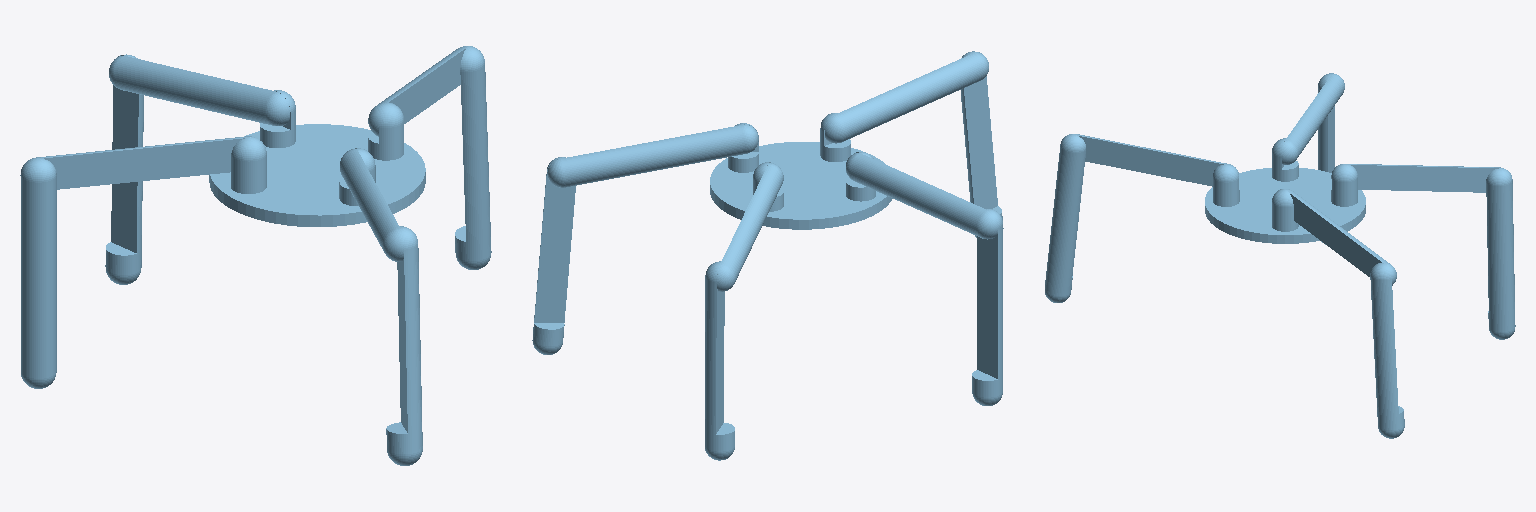
The robot description file, URDF, robot "assembly_1":
<!--URDF generated by ONSHAPE BY PTC INC, 1.221-->
<robot name="assembly_1">
    <link name="part_1">
        <inertial>
            <mass value="3.1603e-07" />
            <origin xyz="0.00222225 -0.00106594 -0.0148348" rpy="0 -0.145248 0" />
            <inertia ixx="2.74232e-11" ixy="0" ixz="3.91866e-12" iyy="2.83556e-11" iyz="0" izz="1.20677e-12" />
        </inertial>
        <visual>
            <origin xyz="0.00191793 0 -0.0300387" rpy="0 -0.145248 0" />
            <geometry>
                <mesh filename="package://assembly_1/meshes/Part_1.stl" scale="1 1 1" />
            </geometry>
            <material name="0.615686_0.811765_0.929412_0.000000_0.000000">
                <color rgba="0.615686 0.811765 0.929412 1" />
            </material>
        </visual>
    </link>
    <link name="part_1_1">
        <inertial>
            <mass value="3.1603e-07" />
            <origin xyz="5.06914e-05 -0.00106594 0.0149998" rpy="0 -0 0" />
            <inertia ixx="2.79964e-11" ixy="0" ixz="0" iyy="2.83556e-11" iyz="0" izz="6.33566e-13" />
        </inertial>
        <visual>
            <origin xyz="-0.002451 0 -7.65404e-20" rpy="0 -0 0" />
            <geometry>
                <mesh filename="package://assembly_1/meshes/Part_1.stl" scale="1 1 1" />
            </geometry>
            <material name="0.615686_0.811765_0.929412_0.000000_0.000000">
                <color rgba="0.615686 0.811765 0.929412 1" />
            </material>
        </visual>
    </link>
    <link name="part_1_10">
        <inertial>
            <mass value="3.1603e-07" />
            <origin xyz="0.00212736 -0.00106594 -0.0148487" rpy="0 -0.138855 0" />
            <inertia ixx="2.74723e-11" ixy="0" ixz="3.75074e-12" iyy="2.83556e-11" iyz="0" izz="1.15773e-12" />
        </inertial>
        <visual>
            <origin xyz="0.00172585 0 -0.0300504" rpy="0 -0.138855 0" />
            <geometry>
                <mesh filename="package://assembly_1/meshes/Part_1.stl" scale="1 1 1" />
            </geometry>
            <material name="0.615686_0.811765_0.929412_0.000000_0.000000">
                <color rgba="0.615686 0.811765 0.929412 1" />
            </material>
        </visual>
    </link>
    <link name="part_1_11">
        <inertial>
            <mass value="1.13097e-06" />
            <origin xyz="-1.62331e-06 -2.81082e-09 0.0009" rpy="0 -0 0" />
            <inertia ixx="6.3101e-11" ixy="-2.0195e-14" ixz="0" iyy="6.31008e-11" iyz="0" izz="1.25591e-10" />
        </inertial>
        <visual>
            <origin xyz="0 0 0" rpy="0 -0 0" />
            <geometry>
                <mesh filename="package://assembly_1/meshes/Part_1_3.stl" scale="1 1 1" />
            </geometry>
            <material name="0.615686_0.811765_0.929412_0.000000_0.000000">
                <color rgba="0.615686 0.811765 0.929412 1" />
            </material>
        </visual>
    </link>
    <link name="part_1_12">
        <inertial>
            <mass value="8.5037e-08" />
            <origin xyz="0.000281315 -0.000361883 0.00265634" rpy="-9.13055e-17 1.86626e-16 2.23158" />
            <inertia ixx="4.4069e-13" ixy="-8.52076e-15" ixz="-4.40003e-14" iyy="4.45028e-13" iyz="5.66019e-14" izz="2.49434e-13" />
        </inertial>
        <visual>
            <origin xyz="5.13857e-35 -1.5839e-36 -4.33681e-19" rpy="-9.13055e-17 1.86626e-16 2.23158" />
            <geometry>
                <mesh filename="package://assembly_1/meshes/Part_1_2.stl" scale="1 1 1" />
            </geometry>
            <material name="0.615686_0.811765_0.929412_0.000000_0.000000">
                <color rgba="0.615686 0.811765 0.929412 1" />
            </material>
        </visual>
    </link>
    <link name="part_1_2">
        <inertial>
            <mass value="3.66911e-07" />
            <origin xyz="0.0037008 -0.000800106 -0.016594" rpy="0 -0.216445 0" />
            <inertia ixx="3.57278e-11" ixy="-2.5849e-13" ixz="7.65496e-12" iyy="3.7645e-11" iyz="1.17523e-12" izz="2.57638e-12" />
        </inertial>
        <visual>
            <origin xyz="0.00404992 0 -0.0298262" rpy="0 -0.216445 0" />
            <geometry>
                <mesh filename="package://assembly_1/meshes/Part_1_1.stl" scale="1 1 1" />
            </geometry>
            <material name="0.615686_0.811765_0.929412_0.000000_0.000000">
                <color rgba="0.615686 0.811765 0.929412 1" />
            </material>
        </visual>
    </link>
    <link name="part_1_3">
        <inertial>
            <mass value="8.5037e-08" />
            <origin xyz="0.000434572 -0.000145754 0.00265634" rpy="-3.67748e-17 2.25294e-16 2.81799" />
            <inertia ixx="4.49873e-13" ixy="-5.30153e-15" ixz="-6.79712e-14" iyy="4.35845e-13" iyz="2.27973e-14" izz="2.49434e-13" />
        </inertial>
        <visual>
            <origin xyz="5.20565e-35 -6.37941e-37 -4.33681e-19" rpy="-3.67748e-17 2.25294e-16 2.81799" />
            <geometry>
                <mesh filename="package://assembly_1/meshes/Part_1_2.stl" scale="1 1 1" />
            </geometry>
            <material name="0.615686_0.811765_0.929412_0.000000_0.000000">
                <color rgba="0.615686 0.811765 0.929412 1" />
            </material>
        </visual>
    </link>
    <link name="part_1_4">
        <inertial>
            <mass value="8.5037e-08" />
            <origin xyz="-0.000131154 -0.000439199 0.00265634" rpy="-1.10813e-16 8.25572e-17 1.28061" />
            <inertia ixx="4.35506e-13" ixy="4.82126e-15" ixz="2.05137e-14" iyy="4.50212e-13" iyz="6.86949e-14" izz="2.49434e-13" />
        </inertial>
        <visual>
            <origin xyz="4.95804e-35 -1.9223e-36 -4.33681e-19" rpy="-1.10813e-16 8.25572e-17 1.28061" />
            <geometry>
                <mesh filename="package://assembly_1/meshes/Part_1_2.stl" scale="1 1 1" />
            </geometry>
            <material name="0.615686_0.811765_0.929412_0.000000_0.000000">
                <color rgba="0.615686 0.811765 0.929412 1" />
            </material>
        </visual>
    </link>
    <link name="part_1_5">
        <inertial>
            <mass value="3.1603e-07" />
            <origin xyz="5.06914e-05 -0.00106594 0.0149998" rpy="0 -0 0" />
            <inertia ixx="2.79964e-11" ixy="0" ixz="0" iyy="2.83556e-11" iyz="0" izz="6.33566e-13" />
        </inertial>
        <visual>
            <origin xyz="-0.002451 0 -7.65404e-20" rpy="0 -0 0" />
            <geometry>
                <mesh filename="package://assembly_1/meshes/Part_1.stl" scale="1 1 1" />
            </geometry>
            <material name="0.615686_0.811765_0.929412_0.000000_0.000000">
                <color rgba="0.615686 0.811765 0.929412 1" />
            </material>
        </visual>
    </link>
    <link name="part_1_6">
        <inertial>
            <mass value="3.66911e-07" />
            <origin xyz="-0.00282161 -0.000800106 0.0167659" rpy="3.14159 0.163748 3.14159" />
            <inertia ixx="3.64411e-11" ixy="1.96229e-13" ixz="5.86874e-12" iyy="3.7645e-11" iyz="-1.18722e-12" izz="1.86307e-12" />
        </inertial>
        <visual>
            <origin xyz="-0.00247329 0 0.0299981" rpy="3.14159 0.163748 3.14159" />
            <geometry>
                <mesh filename="package://assembly_1/meshes/Part_1_1.stl" scale="1 1 1" />
            </geometry>
            <material name="0.615686_0.811765_0.929412_0.000000_0.000000">
                <color rgba="0.615686 0.811765 0.929412 1" />
            </material>
        </visual>
    </link>
    <link name="part_1_7">
        <inertial>
            <mass value="3.66911e-07" />
            <origin xyz="5.07358e-05 -0.000800106 -0.0170016" rpy="0 -0 0" />
            <inertia ixx="3.741e-11" ixy="0" ixz="-4.59011e-15" iyy="3.7645e-11" iyz="1.20332e-12" izz="8.94148e-13" />
        </inertial>
        <visual>
            <origin xyz="-0.00245 0 -0.03" rpy="0 -0 0" />
            <geometry>
                <mesh filename="package://assembly_1/meshes/Part_1_1.stl" scale="1 1 1" />
            </geometry>
            <material name="0.615686_0.811765_0.929412_0.000000_0.000000">
                <color rgba="0.615686 0.811765 0.929412 1" />
            </material>
        </visual>
    </link>
    <link name="part_1_8">
        <inertial>
            <mass value="3.66911e-07" />
            <origin xyz="5.07358e-05 -0.000800106 -0.0170016" rpy="0 -0 0" />
            <inertia ixx="3.741e-11" ixy="0" ixz="-4.59011e-15" iyy="3.7645e-11" iyz="1.20332e-12" izz="8.94148e-13" />
        </inertial>
        <visual>
            <origin xyz="-0.00245 0 -0.03" rpy="0 -0 0" />
            <geometry>
                <mesh filename="package://assembly_1/meshes/Part_1_1.stl" scale="1 1 1" />
            </geometry>
            <material name="0.615686_0.811765_0.929412_0.000000_0.000000">
                <color rgba="0.615686 0.811765 0.929412 1" />
            </material>
        </visual>
    </link>
    <link name="part_1_9">
        <inertial>
            <mass value="8.5037e-08" />
            <origin xyz="0.000442889 0.000118098 0.00265634" rpy="2.97969e-17 2.27392e-16 -2.881" />
            <inertia ixx="4.50484e-13" ixy="4.37779e-15" ixz="-6.92719e-14" iyy="4.35234e-13" iyz="-1.84716e-14" izz="2.49434e-13" />
        </inertial>
        <visual>
            <origin xyz="5.20929e-35 5.16894e-37 -4.33681e-19" rpy="2.97969e-17 2.27392e-16 -2.881" />
            <geometry>
                <mesh filename="package://assembly_1/meshes/Part_1_2.stl" scale="1 1 1" />
            </geometry>
            <material name="0.615686_0.811765_0.929412_0.000000_0.000000">
                <color rgba="0.615686 0.811765 0.929412 1" />
            </material>
        </visual>
    </link>
    <link name="root" />
    <joint name="fixed_node_to_root_joint" type="fixed">
        <origin xyz="0.0361547 0.000731504 0.0164732" rpy="0 -0 0" />
        <axis xyz="0 0 1" />
        <parent link="root" />
        <child link="part_1_11" />
    </joint>
    <joint name="revolute_1" type="continuous">
        <origin xyz="-0.011 -8.67362e-19 0.0018" rpy="-2.1442e-32 1.15648e-16 5.55112e-17" />
        <axis xyz="1.15648e-16 0 -1" />
        <parent link="part_1_11" />
        <child link="part_1_4" />
    </joint>
    <joint name="revolute_10" type="continuous">
        <origin xyz="-6.93889e-18 3.46945e-18 0.005" rpy="6.65869e-15 1.51241 -1.8944" />
        <axis xyz="-0 1 -0" />
        <parent link="part_1_3" />
        <child link="part_1_1" />
    </joint>
    <joint name="revolute_11" type="continuous">
        <origin xyz="-1.0001e-06 0 0.03" rpy="3.14159 1.52583 -1.85547e-14" />
        <axis xyz="-0 1 -0" />
        <parent link="part_1_1" />
        <child link="part_1_8" />
    </joint>
    <joint name="revolute_12" type="continuous">
        <origin xyz="0 6.50521e-19 0.005" rpy="0 1.5708 -3.43178" />
        <axis xyz="-0 1 -0" />
        <parent link="part_1_4" />
        <child link="part_1_5" />
    </joint>
    <joint name="revolute_2" type="continuous">
        <origin xyz="0 0.011 0.0018" rpy="2.99643e-31 1.15648e-16 6.52256e-16" />
        <axis xyz="1.15648e-16 0 -1" />
        <parent link="part_1_11" />
        <child link="part_1_9" />
    </joint>
    <joint name="revolute_3" type="continuous">
        <origin xyz="0.011 3.28513e-17 0.0018" rpy="-4.52076e-22 1.15648e-16 1.249e-15" />
        <axis xyz="1.15648e-16 0 -1" />
        <parent link="part_1_11" />
        <child link="part_1_12" />
    </joint>
    <joint name="revolute_4" type="continuous">
        <origin xyz="5.1946e-05 -0.0109999 0.0018" rpy="-5.47204e-18 8.48344e-17 1.66533e-16" />
        <axis xyz="1.15648e-16 0 -1" />
        <parent link="part_1_11" />
        <child link="part_1_3" />
    </joint>
    <joint name="revolute_5" type="continuous">
        <origin xyz="0.00415326 0 -0.0297111" rpy="3.14159 1.43194 -6.77407e-15" />
        <axis xyz="0 1 0" />
        <parent link="part_1_10" />
        <child link="part_1_2" />
    </joint>
    <joint name="revolute_6" type="continuous">
        <origin xyz="-1.0001e-06 1.73472e-18 0.03" rpy="0 1.5708 -3.14159" />
        <axis xyz="0 1 0" />
        <parent link="part_1_5" />
        <child link="part_1_7" />
    </joint>
    <joint name="revolute_7" type="continuous">
        <origin xyz="6.93889e-18 -1.73472e-18 0.005" rpy="0 1.5708 -1.31021" />
        <axis xyz="0 1 0" />
        <parent link="part_1_9" />
        <child link="part_1" />
    </joint>
    <joint name="revolute_8" type="continuous">
        <origin xyz="0.00434312 0 -0.029684" rpy="-1.16862e-14 -1.42555 -3.14159" />
        <axis xyz="0 1 0" />
        <parent link="part_1" />
        <child link="part_1_6" />
    </joint>
    <joint name="revolute_9" type="continuous">
        <origin xyz="-6.245e-17 -3.80555e-17 0.005" rpy="0 1.5708 -2.48081" />
        <axis xyz="0 1 0" />
        <parent link="part_1_12" />
        <child link="part_1_10" />
    </joint>
</robot>

--- Facts derived from the render (not from the file) ---
The picture shows the robot from 3 angles, left to right: view 1: azimuth 30°, elevation 25°; view 2: azimuth 150°, elevation 25°; view 3: azimuth 270°, elevation 25°; orthographic projection.
Model assembly_1 with 14 links and 13 joints (12 continuous, 1 fixed), rooted at root, posed every joint at zero.
Links seen in each view (by area): view 1: part_1_11, part_1_7, part_1_5, part_1, part_1_2, part_1_8, part_1_6, part_1_1, part_1_10, part_1_4, part_1_12, part_1_9 (+1 smaller); view 2: part_1_11, part_1_10, part_1_2, part_1_1, part_1_7, part_1_5, part_1_6, part_1_8, part_1, part_1_3, part_1_12; view 3: part_1_11, part_1_6, part_1_8, part_1_2, part_1, part_1_1, part_1_10, part_1_5, part_1_7, part_1_9, part_1_3, part_1_12 (+1 smaller).
Boxes of the visible links, x1,y1,x2,y2 form: part_1_11: (209, 124, 425, 226); part_1_7: (21, 159, 56, 388); part_1_5: (20, 136, 254, 189); part_1: (109, 56, 289, 125); part_1_2: (455, 46, 491, 269); part_1_8: (386, 226, 422, 465); part_1_6: (105, 54, 143, 284); part_1_1: (340, 149, 403, 261); part_1_10: (368, 46, 467, 136); part_1_4: (231, 137, 266, 193); part_1_12: (368, 103, 403, 160); part_1_9: (260, 90, 295, 147); part_1_11: (710, 142, 892, 229); part_1_10: (547, 125, 758, 187); part_1_2: (532, 157, 575, 354); part_1_1: (825, 52, 988, 143); part_1_7: (972, 209, 1002, 405); part_1_5: (846, 153, 997, 239); part_1_6: (705, 261, 734, 460); part_1_8: (961, 51, 1003, 237); part_1: (717, 163, 783, 291); part_1_3: (820, 113, 850, 161); part_1_12: (728, 123, 758, 172); part_1_11: (1205, 168, 1365, 243); part_1_6: (1486, 168, 1515, 339); part_1_8: (1045, 135, 1085, 302); part_1_2: (1370, 263, 1404, 438); part_1: (1331, 164, 1503, 192); part_1_1: (1069, 134, 1238, 186); part_1_10: (1286, 189, 1396, 285); part_1_5: (1282, 73, 1344, 164); part_1_7: (1318, 73, 1334, 244); part_1_9: (1331, 164, 1357, 206); part_1_3: (1213, 164, 1239, 206); part_1_12: (1272, 189, 1298, 231).
Size in the robot's own frame: 0.081 by 0.0875 by 0.041 metres.
Meshes: 4 distinct files referenced, 13 mesh visuals loaded (4 binary STL).
